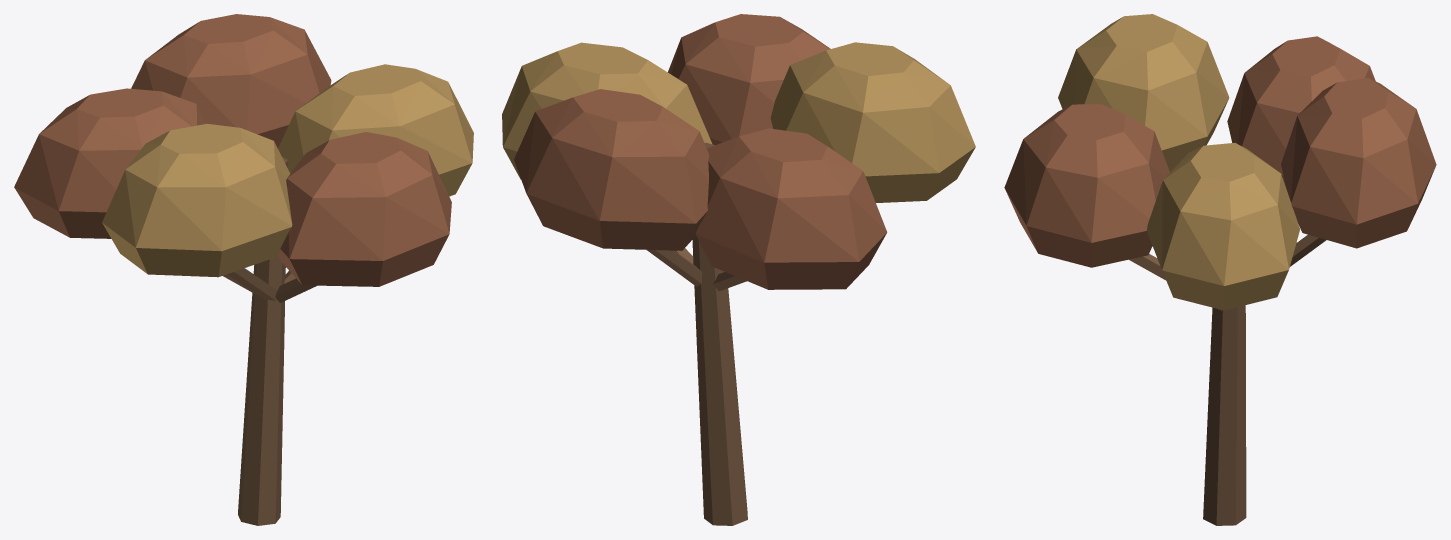
Rendered from maple-large.glb.
3 renders of one model, left to right at view 1: azimuth 30°, elevation 25°; view 2: azimuth 150°, elevation 25°; view 3: azimuth 270°, elevation 25°, orthographic. The views are drawn at different scales.
Visible parts, largest first — view 1: maple-large__body; view 2: maple-large__body; view 3: maple-large__body.
Part boxes in pixels (x1,y1,x2,y2): maple-large__body: [14, 14, 473, 525]; maple-large__body: [502, 14, 975, 525]; maple-large__body: [1004, 14, 1436, 525].
Bounding box in the file's own units: 2.52 × 2.6 × 2.33.
